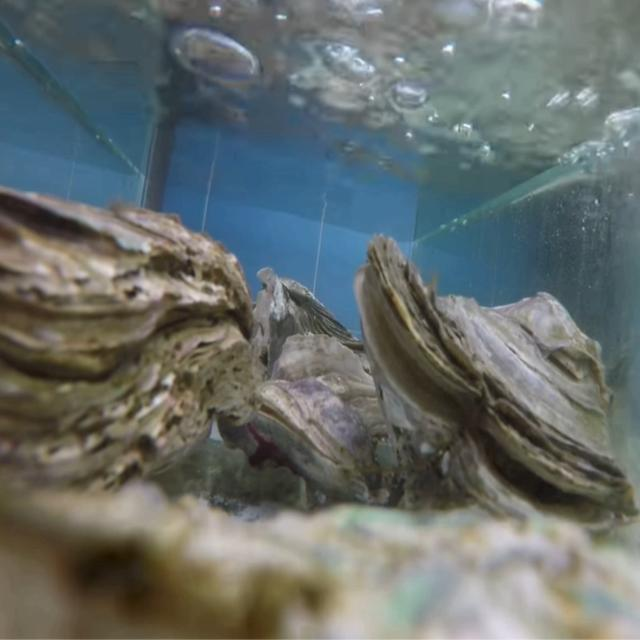Oyster-Closed: (0, 184, 254, 522), (250, 334, 407, 506)
Oyster-Indeterminate: (0, 481, 640, 640)
Oyster-Open: (355, 235, 640, 542)
